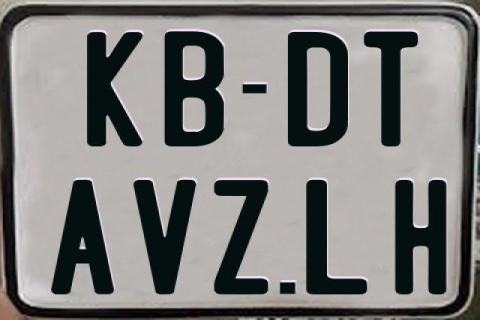A: (51, 180, 117, 299)
B: (163, 31, 228, 148)
D: (286, 32, 351, 150)
H: (394, 180, 449, 298)
K: (87, 32, 143, 151)
L: (305, 179, 369, 297)
T: (364, 30, 419, 150)
V: (131, 180, 194, 296)
Z: (212, 178, 270, 294)
